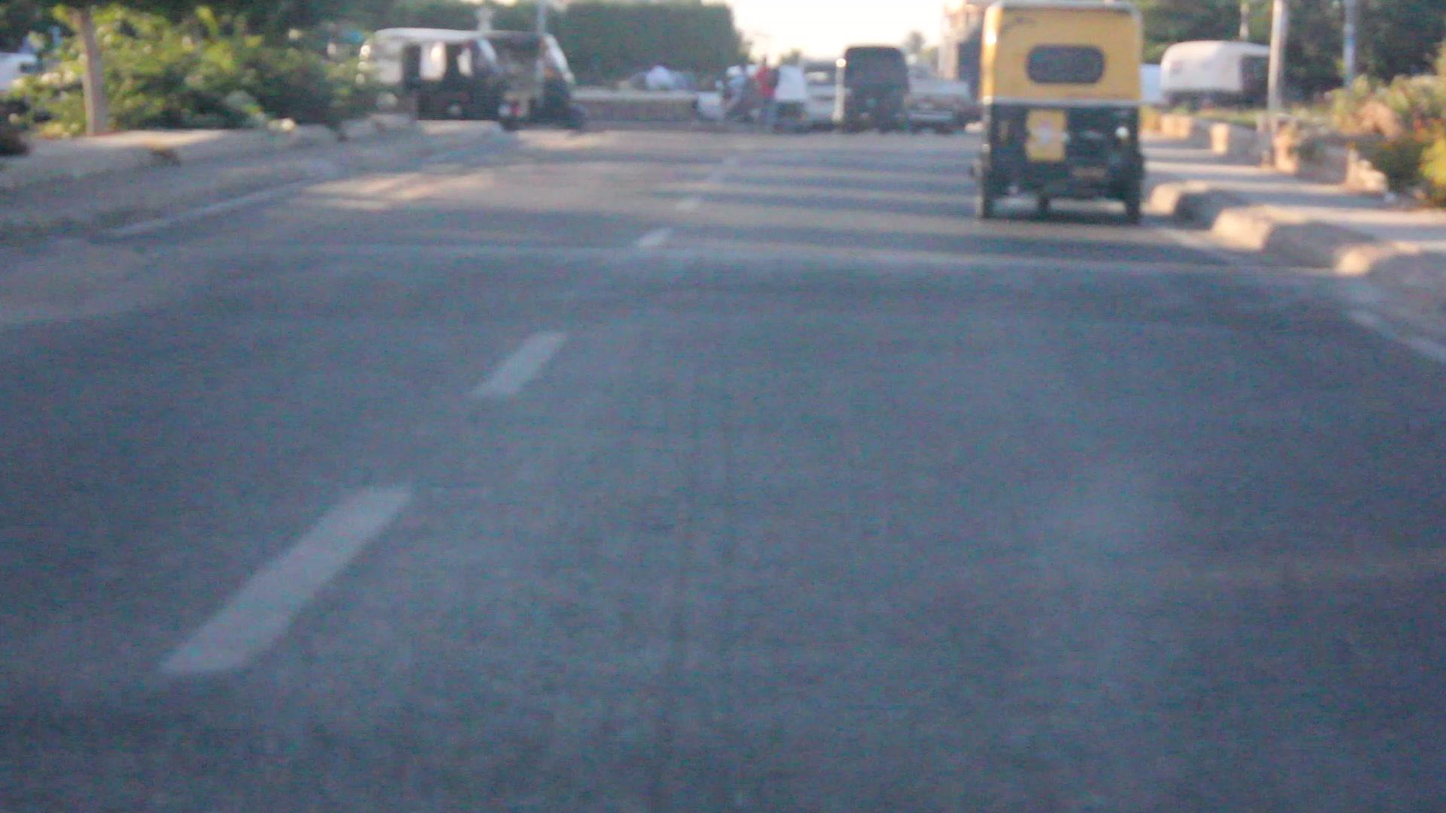Bump: (48, 254, 1335, 328)
